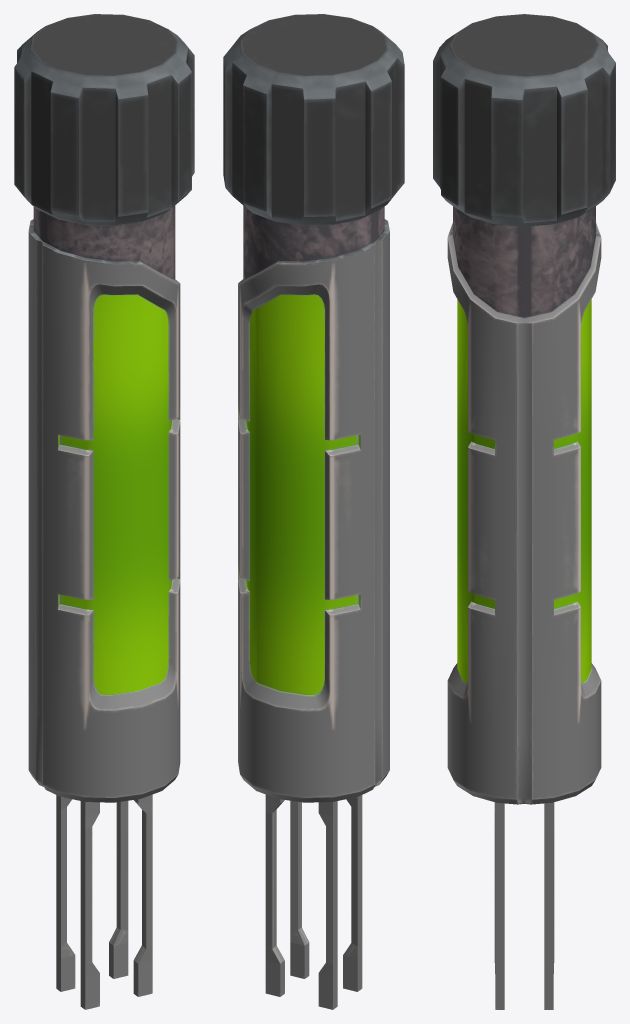
The model's file is prop_syringe.glb.
3 views of the same model, side by side, from view 1: azimuth 30°, elevation 25°; view 2: azimuth 150°, elevation 25°; view 3: azimuth 270°, elevation 25° (orthographic).
Visible parts, largest first — view 1: Prop_Syringe; view 2: Prop_Syringe; view 3: Prop_Syringe.
Boxes of the visible parts, x1=… form: Prop_Syringe: x1=14, y1=14, x2=194, y2=1009; Prop_Syringe: x1=223, y1=14, x2=404, y2=1009; Prop_Syringe: x1=433, y1=14, x2=615, y2=1009.
Bounding box in the file's own units: 0.114 × 0.6525 × 0.114.
1 material, 1 textured.
